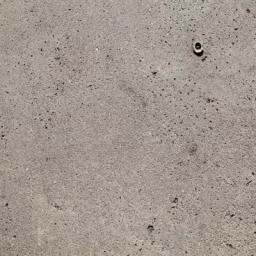FOD: (193, 34, 207, 59)
